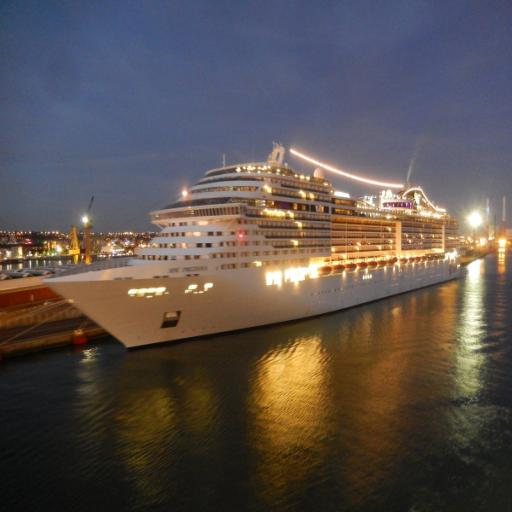cruises: (43, 133, 466, 360)
